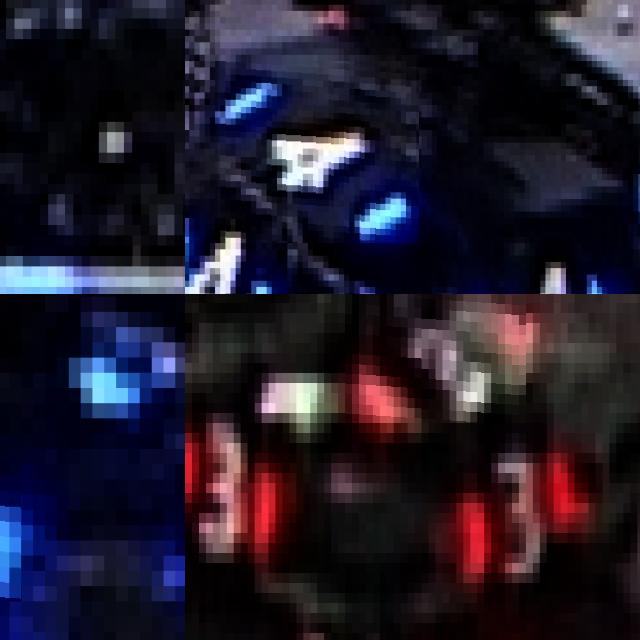B4: (218, 55, 419, 243), (457, 252, 622, 294), (185, 217, 274, 294)
R3: (338, 294, 526, 423), (436, 438, 568, 598), (185, 398, 275, 558)
